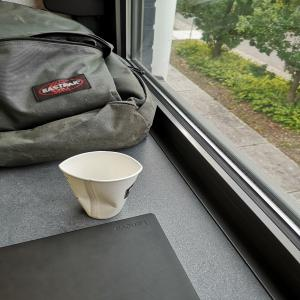Cup: (59, 151, 146, 221)
